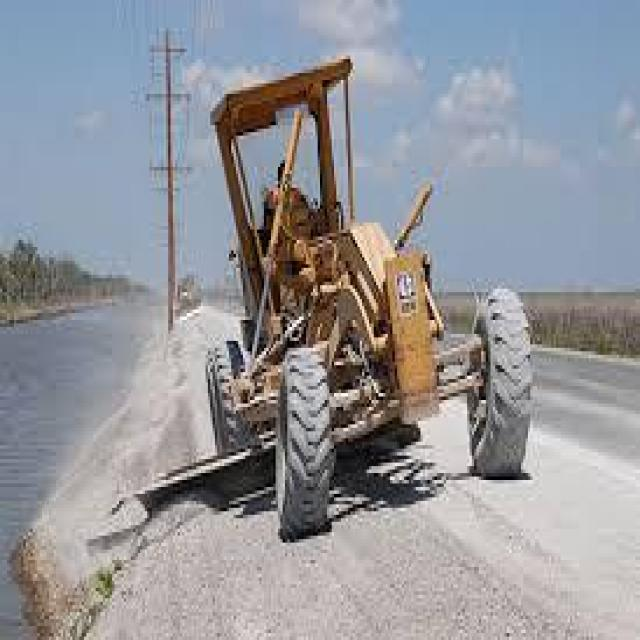Grader: (117, 32, 560, 504)
